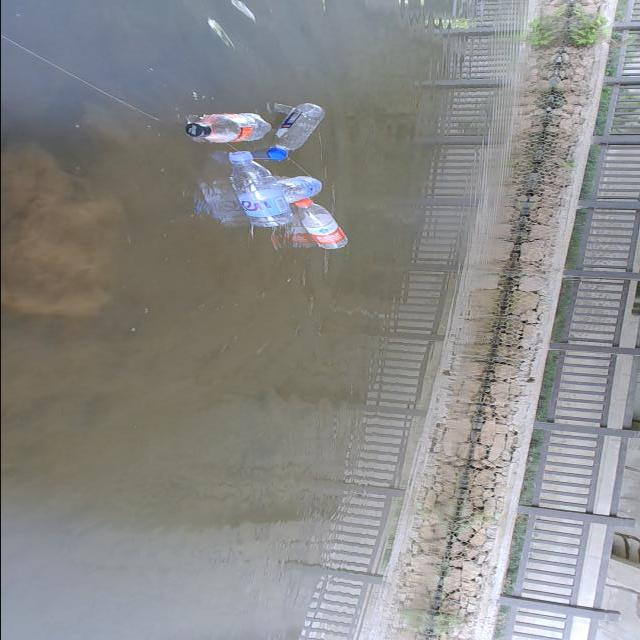bottle: (225, 150, 292, 237), (184, 100, 274, 153), (264, 100, 330, 166), (290, 194, 356, 260), (282, 168, 328, 206)
